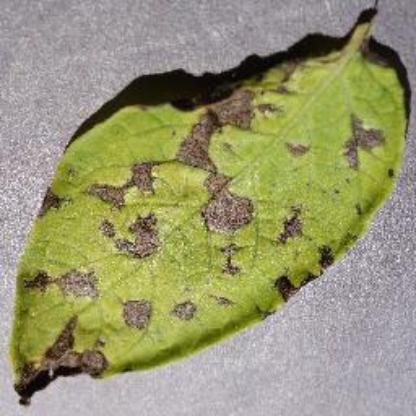Early-Blight: (10, 5, 416, 412)
